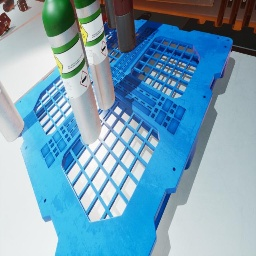0: (42, 0, 101, 144), (74, 0, 115, 110), (0, 80, 24, 142)
FireExtinguisher ]: (102, 14, 107, 25)
FirstAidBox ,: (0, 12, 11, 36), (17, 0, 28, 12)
NitrogenTank ,: (69, 0, 89, 67), (112, 0, 136, 53), (104, 0, 116, 29), (3, 0, 14, 12)
